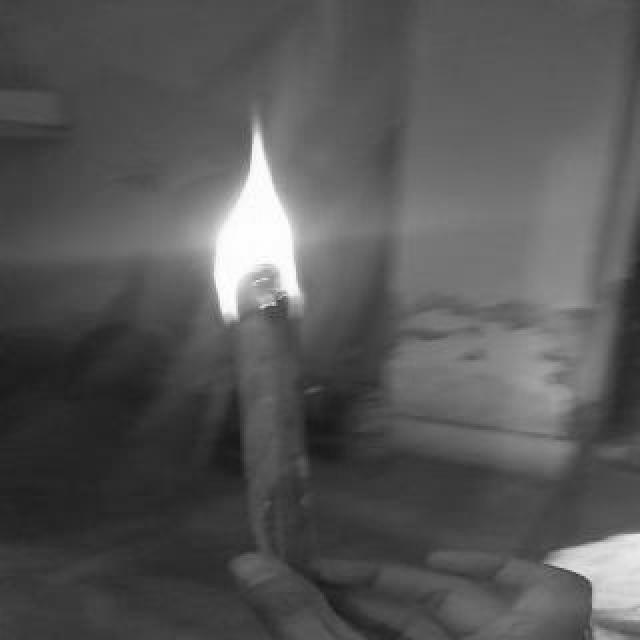Fire: (178, 92, 342, 332)
